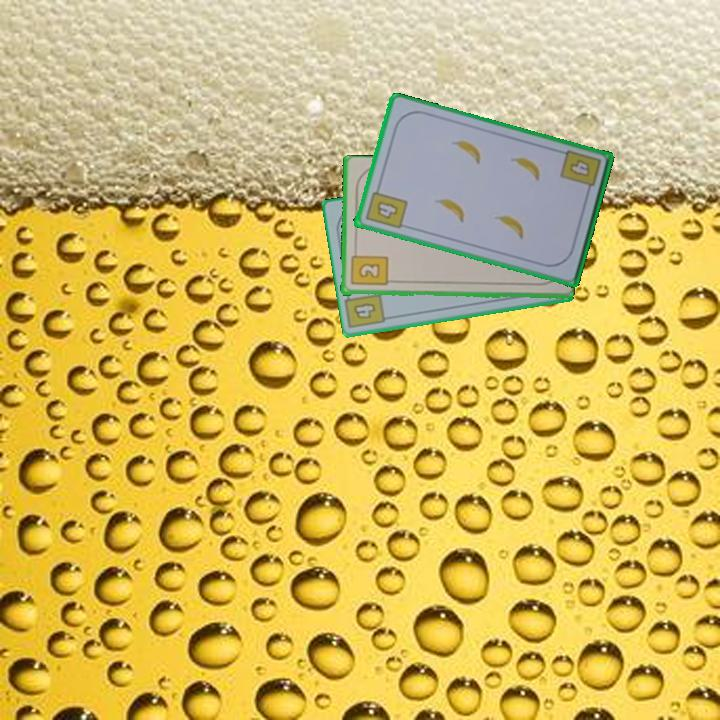2b: (347, 246, 390, 289)
4b: (361, 182, 410, 232), (565, 156, 593, 180), (350, 299, 378, 322)
